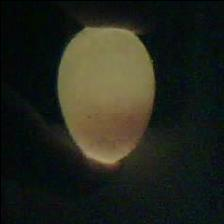infertile: (54, 22, 158, 166)
